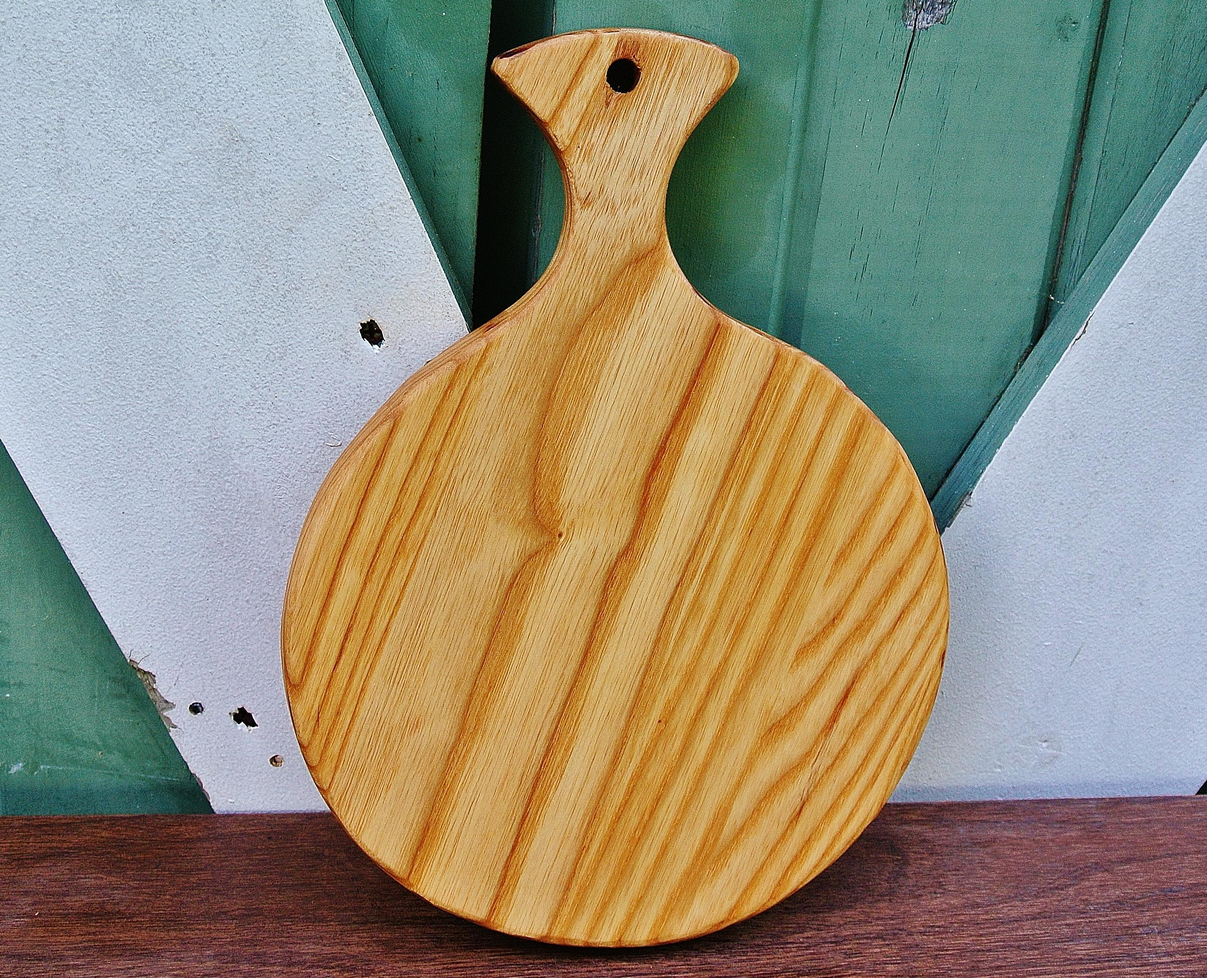gloved_hand: (265, 20, 971, 963)
